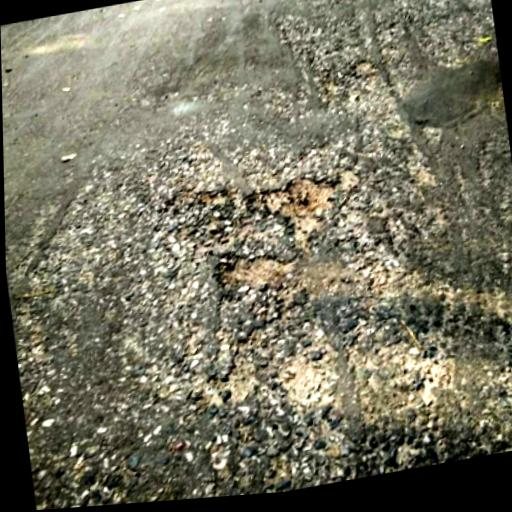pothole: (262, 169, 343, 245), (216, 243, 291, 295)
